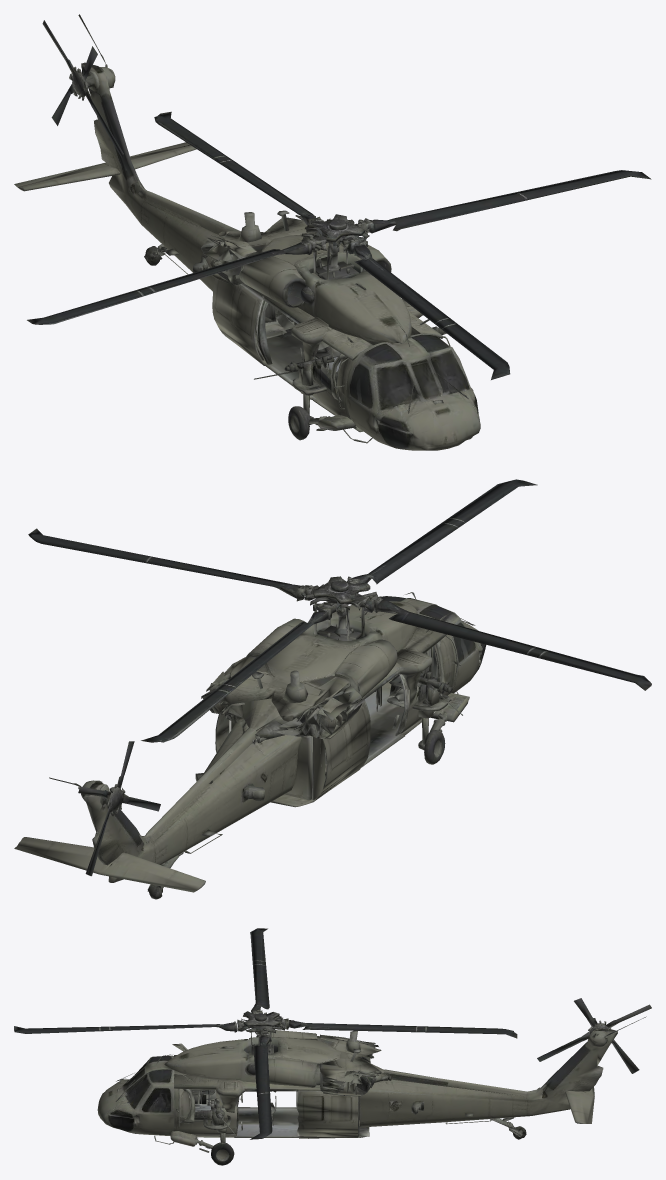
File: heli_transport.glb
3 views of the same model, one above another, from view 1: azimuth 30°, elevation 25°; view 2: azimuth 150°, elevation 25°; view 3: azimuth 270°, elevation 25° (orthographic). The views are drawn at different scales.
Parts seen in each view (by area): view 1: hull, P_rotor; view 2: hull, P_rotor; view 3: hull, P_rotor.
Boxes of the visible parts, <box> form: hull: <box>14,14,480,450</box>; P_rotor: <box>27,111,651,379</box>; hull: <box>14,592,486,899</box>; P_rotor: <box>28,479,651,742</box>; hull: <box>97,998,651,1165</box>; P_rotor: <box>14,928,517,1139</box>.
Size of the model in its own units: 14.91 by 4.56 by 19.
3 materials, 3 textured.
